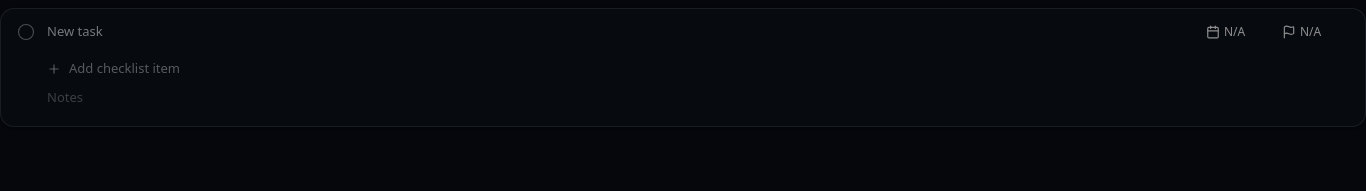
Test: InlineTaskCard › creates a new checklist input on Enter
Click the button "Add checklist item" at (114, 69), box 47,55 -> 180,82
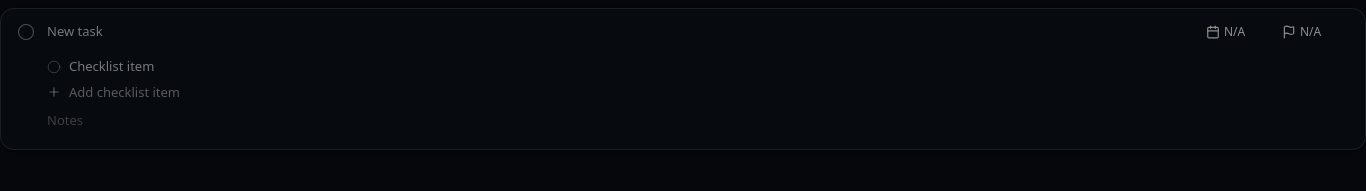
Type "Step 1" into the field with placeholder "Checklist item" at (709, 67), box 69,57 -> 1349,76
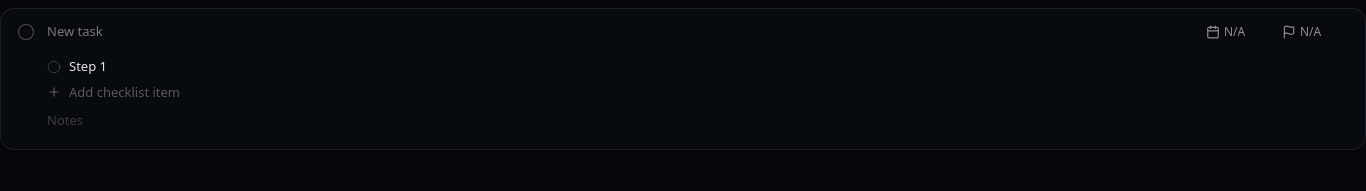
Press Enter in the field with placeholder "Checklist item", box 69,57 -> 1349,76
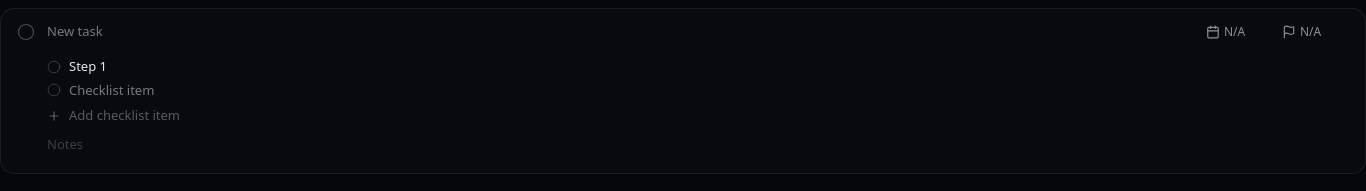
Now the number of fields with placeholder "Checklist item" is 2, box 69,57 -> 1349,76; 69,80 -> 1349,100
Now the field with placeholder "Checklist item" is empty, box 69,80 -> 1349,100
